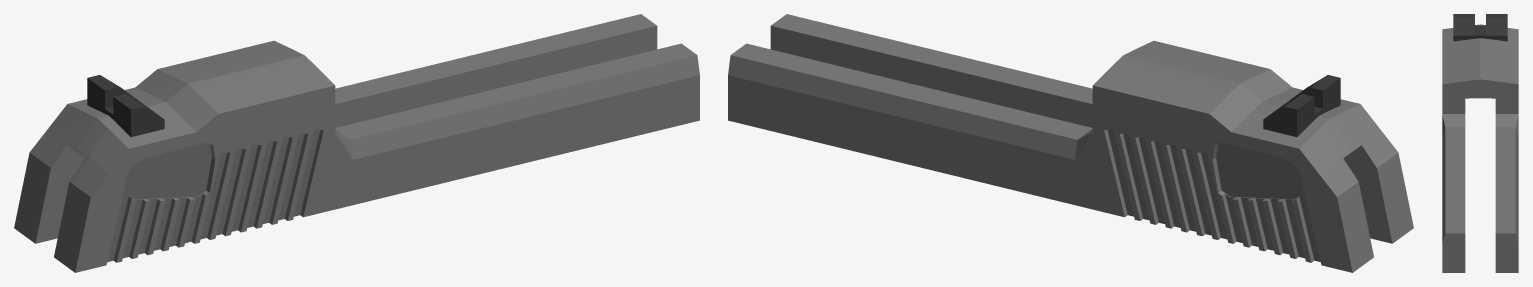
File: Pistol3_01_2.fbx
3 renders of one model, left to right at view 1: azimuth 30°, elevation 25°; view 2: azimuth 150°, elevation 25°; view 3: azimuth 270°, elevation 25°, orthographic. The views are drawn at different scales.
Visible parts, largest first — view 1: Pistol3_01_2; view 2: Pistol3_01_2; view 3: Pistol3_01_2.
Boxes of the visible parts, left/top/right/bottom form: Pistol3_01_2: left=14, top=14, right=699, bottom=272; Pistol3_01_2: left=728, top=14, right=1413, bottom=272; Pistol3_01_2: left=1442, top=14, right=1518, bottom=272.
Bounding box in the file's own units: 0.2764 × 0.0596 × 0.0469.
